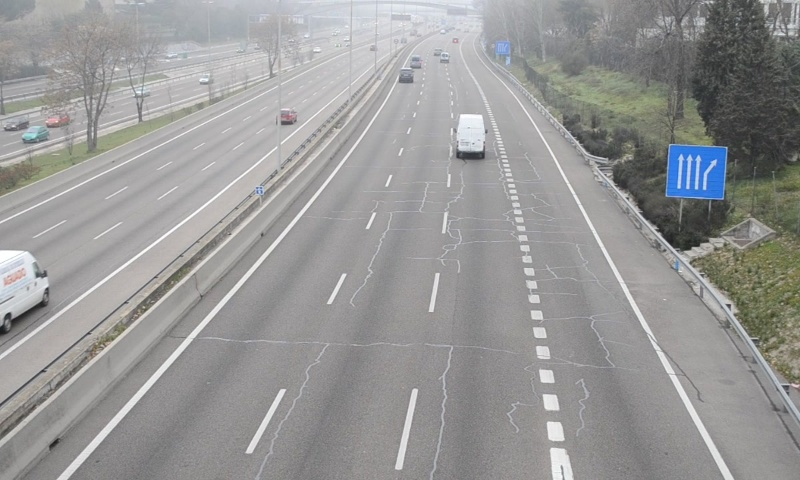car: (398, 67, 413, 84)
van: (454, 113, 487, 155)
